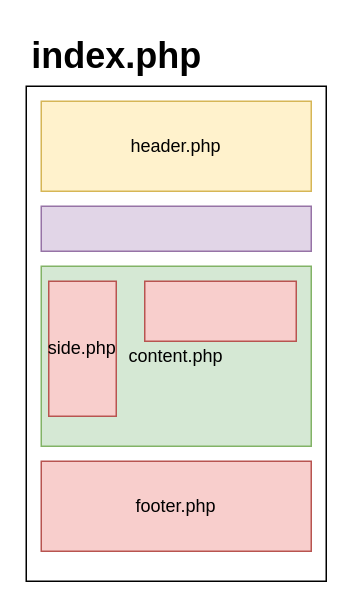
Image size: 353x608. Some labels were removed from this diagram. Each missing label, with the centre of its shape:
"menu.php" belongs at point (175, 228).
"page.php" belongs at point (219, 310).
